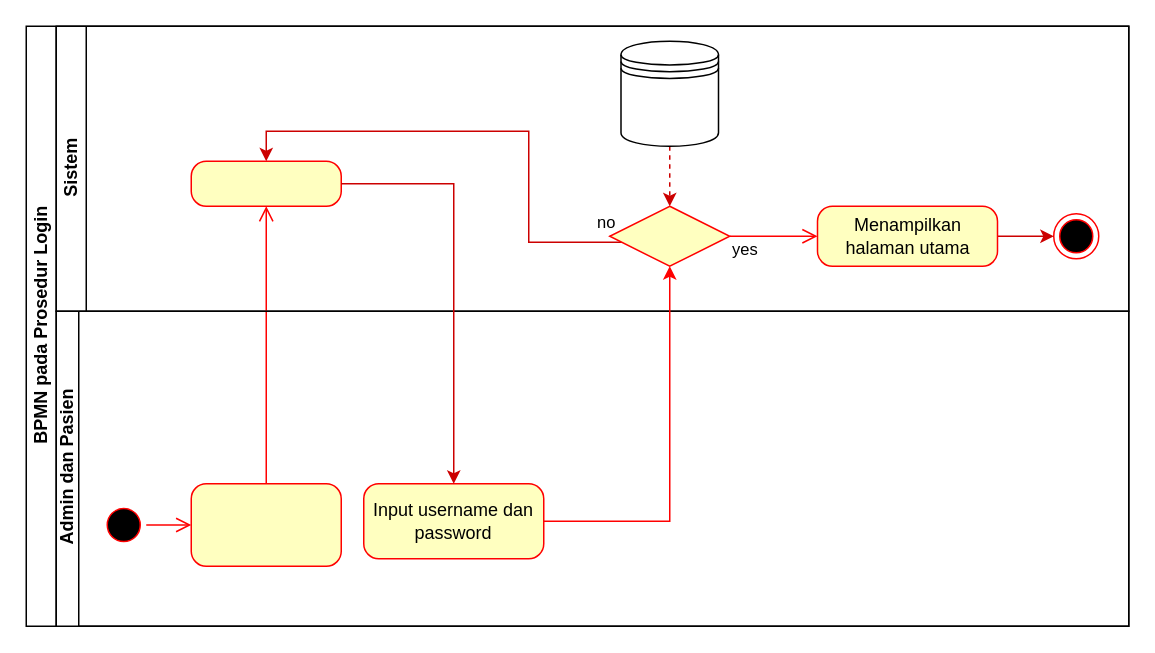
Image size: 1155x653. Some labels were removed from this diagram. Here are the shapes that lost their labels. From the top down, the centre of each, then its label:
At (265,183): "Menampilkan halaman login".
At (669,235): "Validasi".
At (265,524): "Membuka aplikasi sistem informasi klinik".
